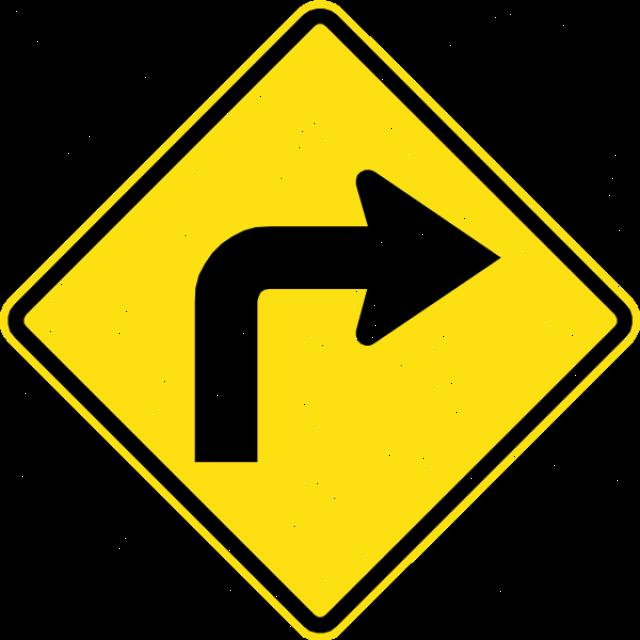right: (180, 164, 508, 468)
